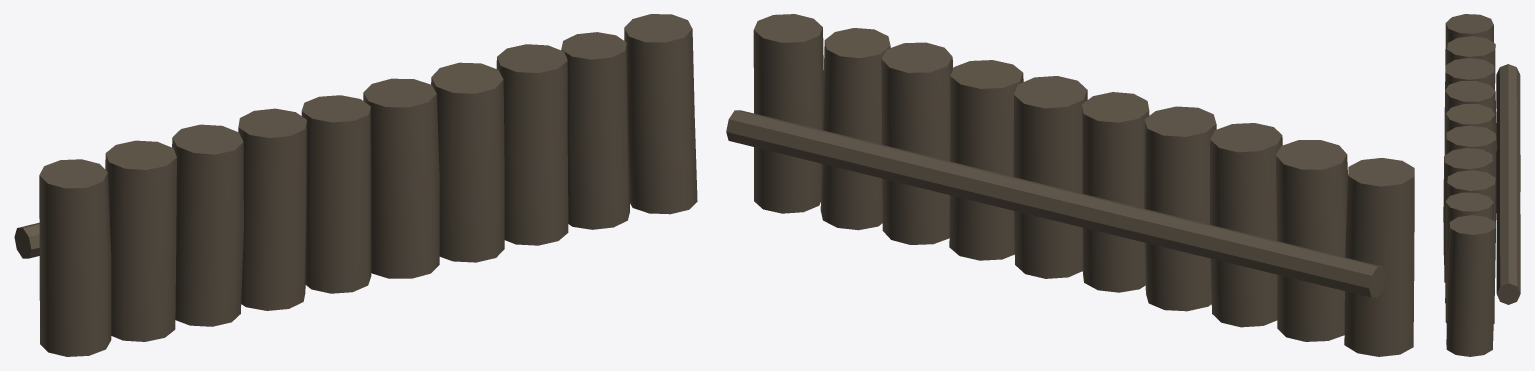
File: bruestung_holz_05_2m.glb
The picture shows the model from 3 angles, left to right: view 1: azimuth 30°, elevation 25°; view 2: azimuth 150°, elevation 25°; view 3: azimuth 270°, elevation 25°; orthographic projection. The views are drawn at different scales.
Visible parts, largest first — view 1: bruestung_holz_05_2m; view 2: bruestung_holz_05_2m; view 3: bruestung_holz_05_2m.
Boxes of the visible parts, bbox=[...] form: bruestung_holz_05_2m: bbox=[14, 14, 697, 356]; bruestung_holz_05_2m: bbox=[726, 14, 1414, 356]; bruestung_holz_05_2m: bbox=[1443, 14, 1520, 356].
Size of the model in its own units: 1.99 by 0.5091 by 0.2909.
